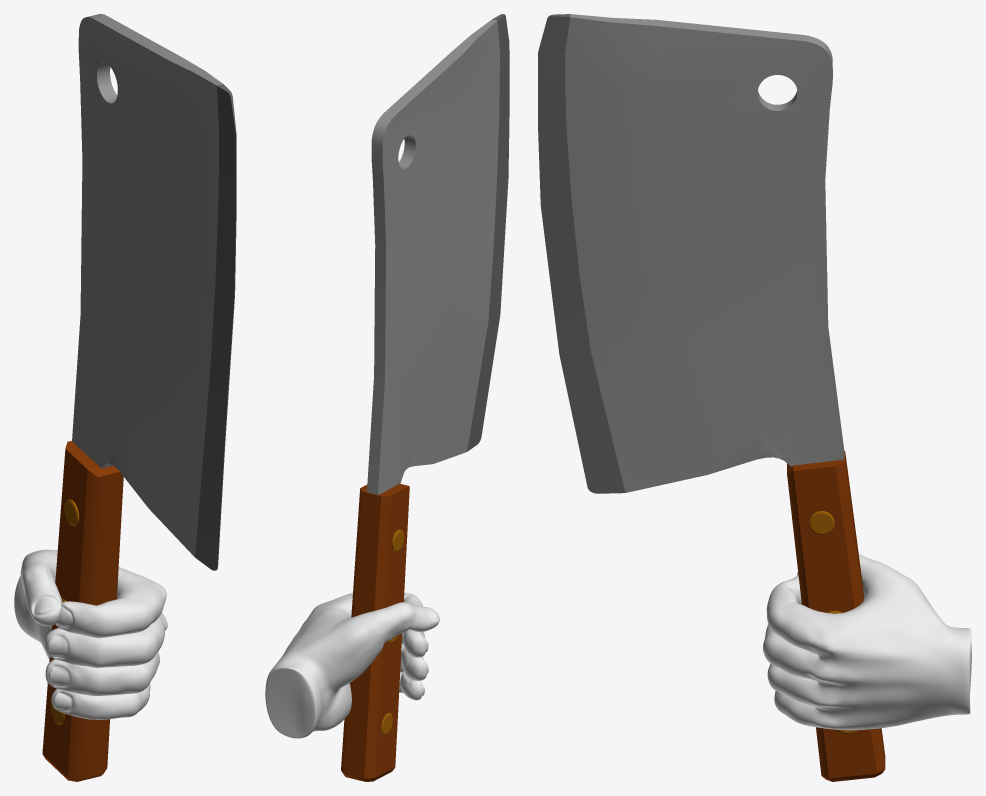
The model's file is левая с тесаком.fbx.
The picture shows the model from 3 angles, left to right: view 1: azimuth 30°, elevation 25°; view 2: azimuth 150°, elevation 25°; view 3: azimuth 270°, elevation 25°; orthographic projection. The views are drawn at different scales.
Parts seen in each view (by area): view 1: левая рука.002; view 2: левая рука.002; view 3: левая рука.002.
Part boxes in pixels (x1,y1,x2,y2): левая рука.002: [14, 14, 236, 781]; левая рука.002: [265, 14, 509, 781]; левая рука.002: [538, 14, 971, 781].
Size of the model in its own units: 8.29 by 44.82 by 23.26.
